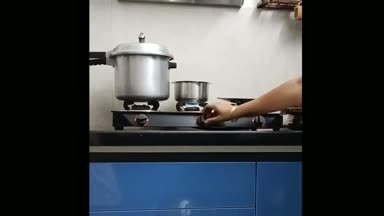flame_gas_off: (120, 99, 163, 128)
flame_gas_on: (175, 98, 207, 126)
